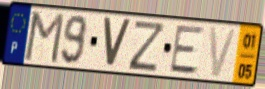9: (59, 14, 89, 67)
E: (168, 24, 207, 76)
M: (22, 10, 67, 66)
V: (101, 15, 133, 71), (207, 25, 239, 79)
Z: (127, 18, 168, 74)
